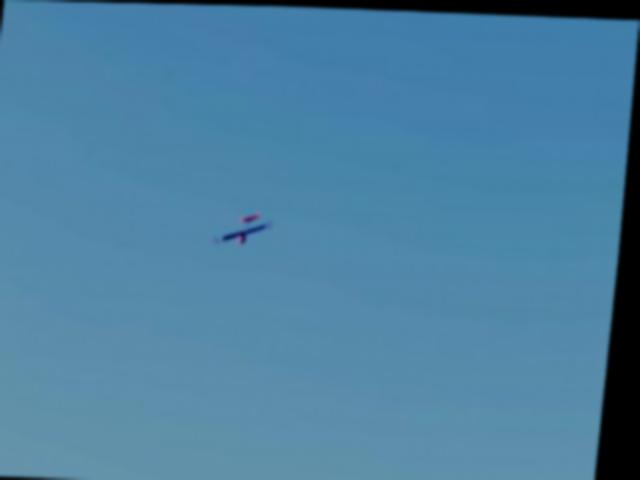uav: (225, 207, 273, 251)
